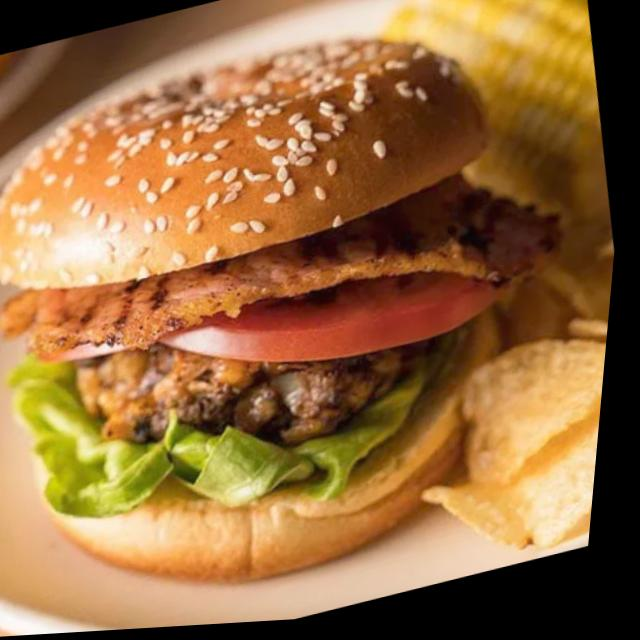burger: (0, 0, 638, 640)
